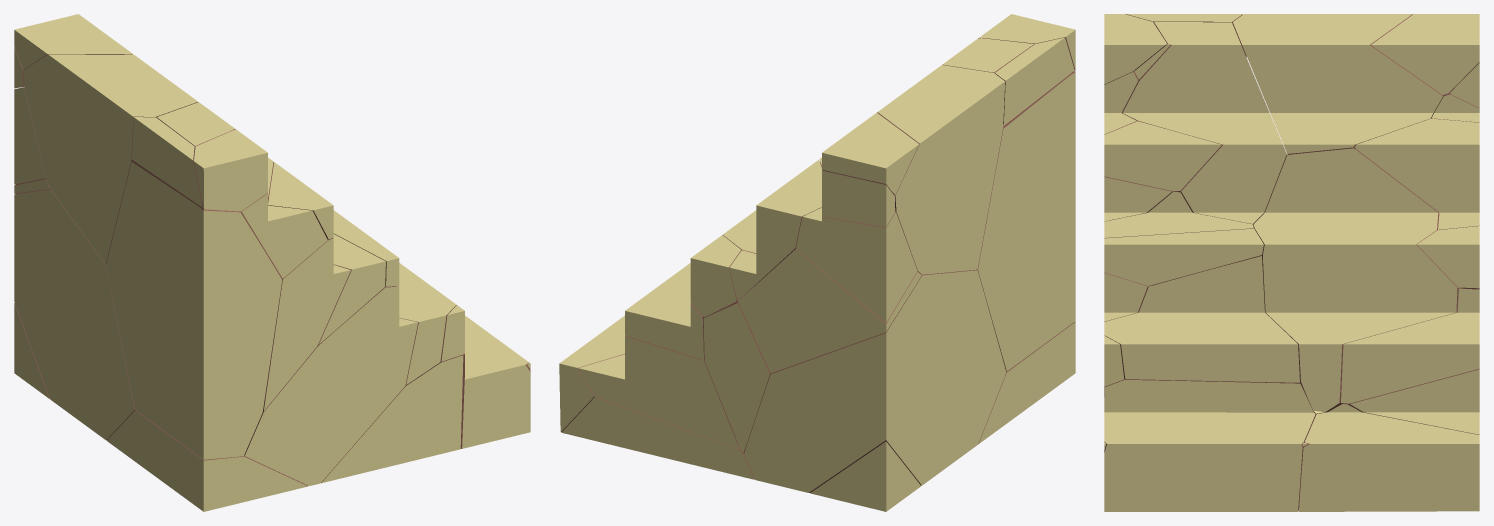
File: FracturesSquares1mStairs.fbx
The picture shows the model from 3 angles, left to right: view 1: azimuth 30°, elevation 25°; view 2: azimuth 150°, elevation 25°; view 3: azimuth 270°, elevation 25°; orthographic projection.
Parts seen in each view (by area): view 1: Cube.028_cell.018, Cube.028_cell.005, Cube.028_cell.006, Cube.028_cell.022, Cube.028_cell.030, Cube.028_cell, Cube.028_cell.026, Cube.028_cell.028, Cube.028_cell.017, Cube.028_cell.027, Cube.028_cell.031, Cube.028_cell.001 (+7 smaller); view 2: Cube.028_cell.005, Cube.028_cell.018, Cube.028_cell.006, Cube.028_cell.011, Cube.028_cell.013, Cube.028_cell.003, Cube.028_cell.008, Cube.028_cell.016, Cube.028_cell.009, Cube.028_cell.007, Cube.028_cell.012, Cube.028_cell (+6 smaller); view 3: Cube.028_cell.008, Cube.028_cell.026, Cube.028_cell.006, Cube.028_cell.018, Cube.028_cell.031, Cube.028_cell.015, Cube.028_cell.012, Cube.028_cell.009, Cube.028_cell.023, Cube.028_cell.007, Cube.028_cell.020, Cube.028_cell.013 (+10 smaller).
Boxes of the visible parts, x1=… form: Cube.028_cell.018: x1=106, y1=102, x2=282, y2=459; Cube.028_cell.005: x1=14, y1=189, x2=135, y2=440; Cube.028_cell.006: x1=23, y1=54, x2=197, y2=264; Cube.028_cell.022: x1=244, y1=286, x2=417, y2=485; Cube.028_cell.030: x1=321, y1=355, x2=463, y2=483; Cube.028_cell: x1=107, y1=410, x2=308, y2=511; Cube.028_cell.026: x1=440, y1=315, x2=530, y2=448; Cube.028_cell.028: x1=264, y1=238, x2=350, y2=410; Cube.028_cell.017: x1=194, y1=130, x2=267, y2=211; Cube.028_cell.027: x1=241, y1=193, x2=327, y2=278; Cube.028_cell.031: x1=396, y1=263, x2=456, y2=384; Cube.028_cell.001: x1=132, y1=117, x2=202, y2=207; Cube.028_cell.005: x1=744, y1=270, x2=1006, y2=492; Cube.028_cell.018: x1=942, y1=38, x2=1075, y2=371; Cube.028_cell.006: x1=819, y1=65, x2=1005, y2=274; Cube.028_cell.011: x1=738, y1=249, x2=921, y2=373; Cube.028_cell.013: x1=578, y1=336, x2=739, y2=448; Cube.028_cell.003: x1=796, y1=207, x2=917, y2=322; Cube.028_cell.008: x1=702, y1=162, x2=821, y2=453; Cube.028_cell.016: x1=561, y1=397, x2=753, y2=479; Cube.028_cell.009: x1=729, y1=160, x2=822, y2=300; Cube.028_cell.007: x1=822, y1=112, x2=918, y2=194; Cube.028_cell.012: x1=625, y1=263, x2=703, y2=359; Cube.028_cell: x1=978, y1=321, x2=1075, y2=444; Cube.028_cell.008: x1=1253, y1=148, x2=1461, y2=415; Cube.028_cell.026: x1=1104, y1=380, x2=1315, y2=511; Cube.028_cell.006: x1=1233, y1=14, x2=1443, y2=154; Cube.028_cell.018: x1=1121, y1=22, x2=1286, y2=224; Cube.028_cell.031: x1=1104, y1=256, x2=1299, y2=383; Cube.028_cell.015: x1=1299, y1=404, x2=1479, y2=511; Cube.028_cell.012: x1=1341, y1=288, x2=1479, y2=403; Cube.028_cell.009: x1=1354, y1=118, x2=1479, y2=229; Cube.028_cell.023: x1=1104, y1=228, x2=1263, y2=285; Cube.028_cell.007: x1=1371, y1=14, x2=1479, y2=94; Cube.028_cell.020: x1=1104, y1=121, x2=1221, y2=191; Cube.028_cell.013: x1=1346, y1=369, x2=1479, y2=434.
Size of the model in its own units: 99.57 by 100 by 100.
